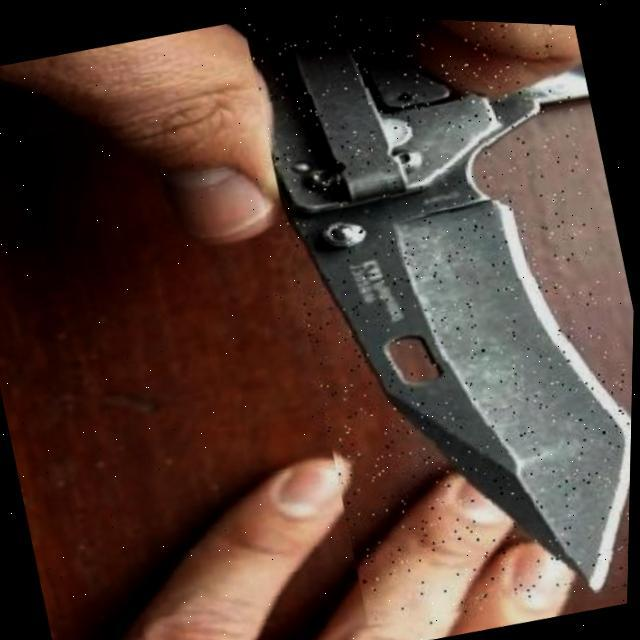knife: (230, 8, 640, 640)
